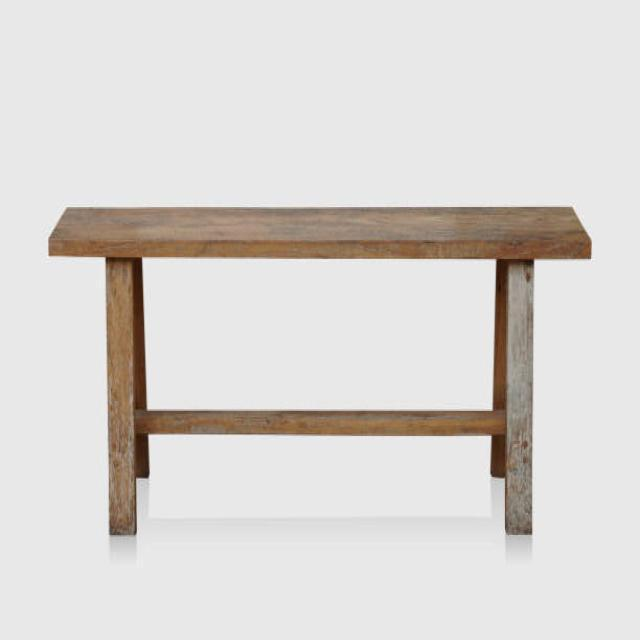table: (47, 204, 592, 536)
